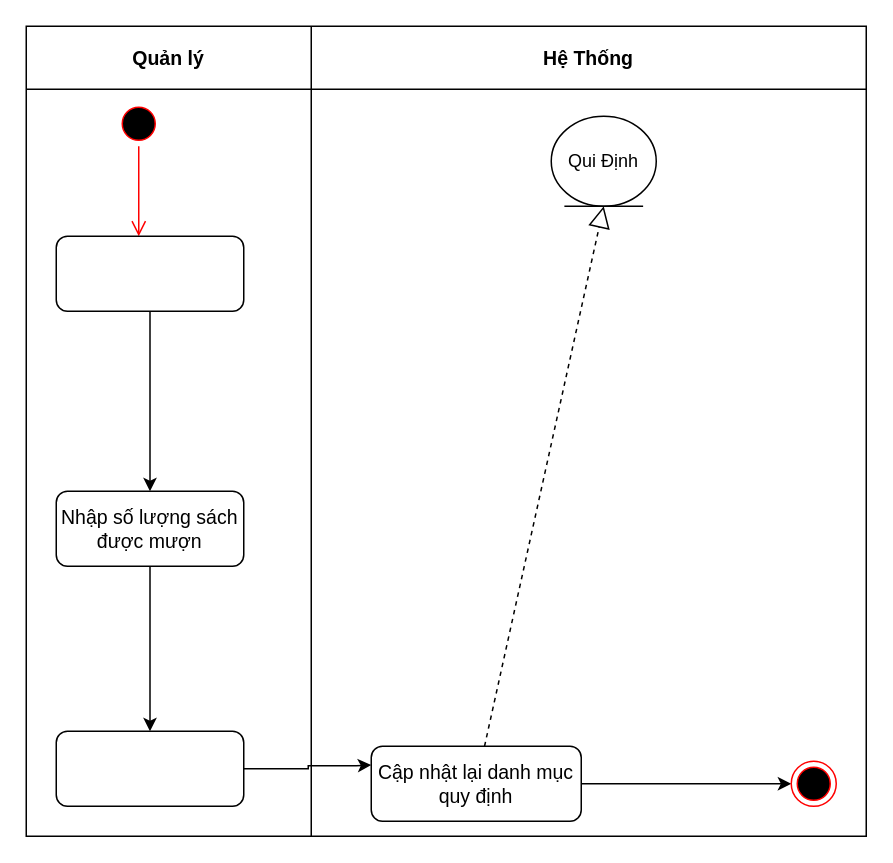
This 893x863 diagram has some shape labels left out. The centre of each missing label's shape, as x and y in pixels:
"Nhấn sửa" goes at point (149, 768).
"Vào giao diện quản lý quy định" goes at point (149, 273).
